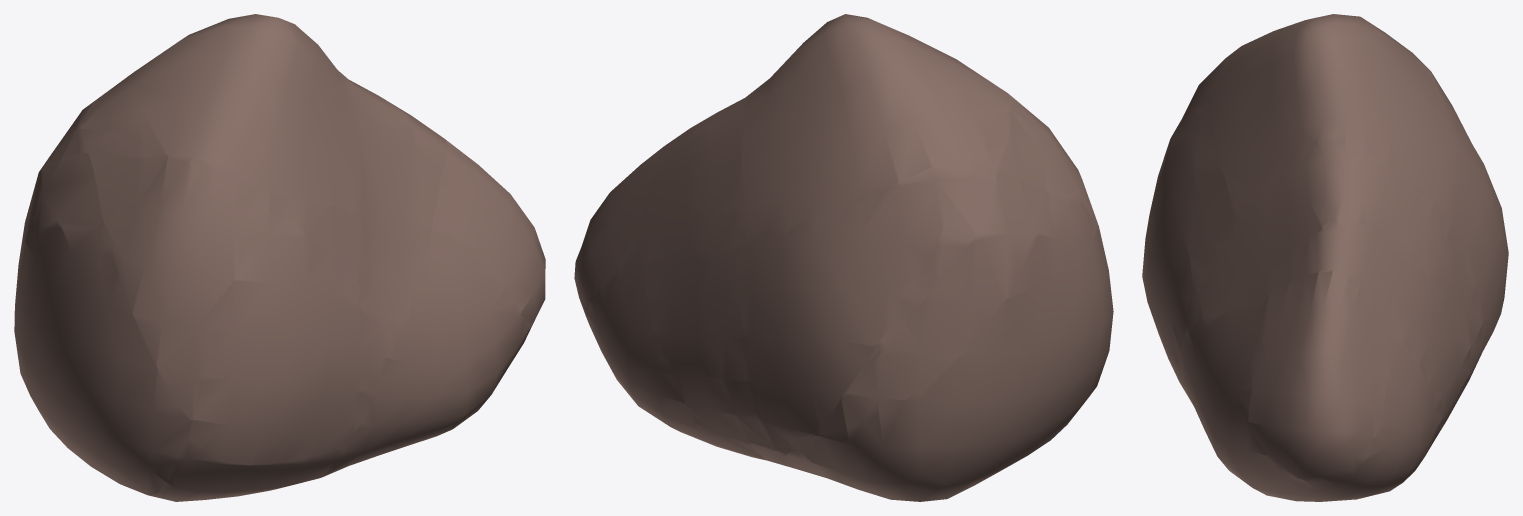
The model's file is Crushed_0.fbx.
3 renders of one model, left to right at view 1: azimuth 30°, elevation 25°; view 2: azimuth 150°, elevation 25°; view 3: azimuth 270°, elevation 25°, orthographic. The views are drawn at different scales.
Parts seen in each view (by area): view 1: shard33, shard39, shard38, shard31, shard44, shard37, shard32, shard36, shard42, shard34, shard35, shard40 (+2 smaller); view 2: shard38, shard33, shard45, shard42, shard40, shard37, shard44, shard35, shard32, shard31, shard36; view 3: shard33, shard32, shard37, shard44, shard40, shard39, shard45, shard34, shard31, shard41.
Part boxes in pixels (box(x1,y1,x2,y2)): shard33: box(93, 14, 364, 213); shard39: box(186, 196, 373, 464); shard38: box(14, 226, 191, 496); shard31: box(89, 153, 255, 421); shard44: box(330, 214, 530, 473); shard37: box(345, 76, 425, 441); shard32: box(435, 141, 545, 329); shard36: box(146, 437, 346, 501); shard42: box(19, 153, 105, 258); shard34: box(261, 191, 370, 297); shard35: box(42, 128, 284, 214); shard40: box(401, 109, 447, 246); shard38: box(798, 192, 1113, 501); shard33: box(735, 14, 1013, 236); shard45: box(735, 134, 988, 450); shard42: box(815, 171, 1051, 435); shard40: box(645, 123, 763, 459); shard37: box(695, 89, 788, 466); shard44: box(585, 235, 740, 453); shard35: box(854, 98, 1014, 382); shard32: box(574, 148, 661, 314); shard31: box(1000, 99, 1097, 223); shard36: box(781, 447, 842, 483); shard33: box(1208, 14, 1456, 223); shard32: box(1249, 272, 1387, 481); shard37: box(1174, 139, 1481, 397); shard44: box(1176, 291, 1441, 501); shard40: box(1255, 216, 1469, 433); shard39: box(1142, 102, 1207, 375); shard45: box(1409, 50, 1508, 379); shard34: box(1194, 102, 1445, 271); shard31: box(1171, 62, 1221, 137); shard41: box(1191, 192, 1501, 381).
Size of the model in its own units: 19.5 by 16.22 by 13.42.
